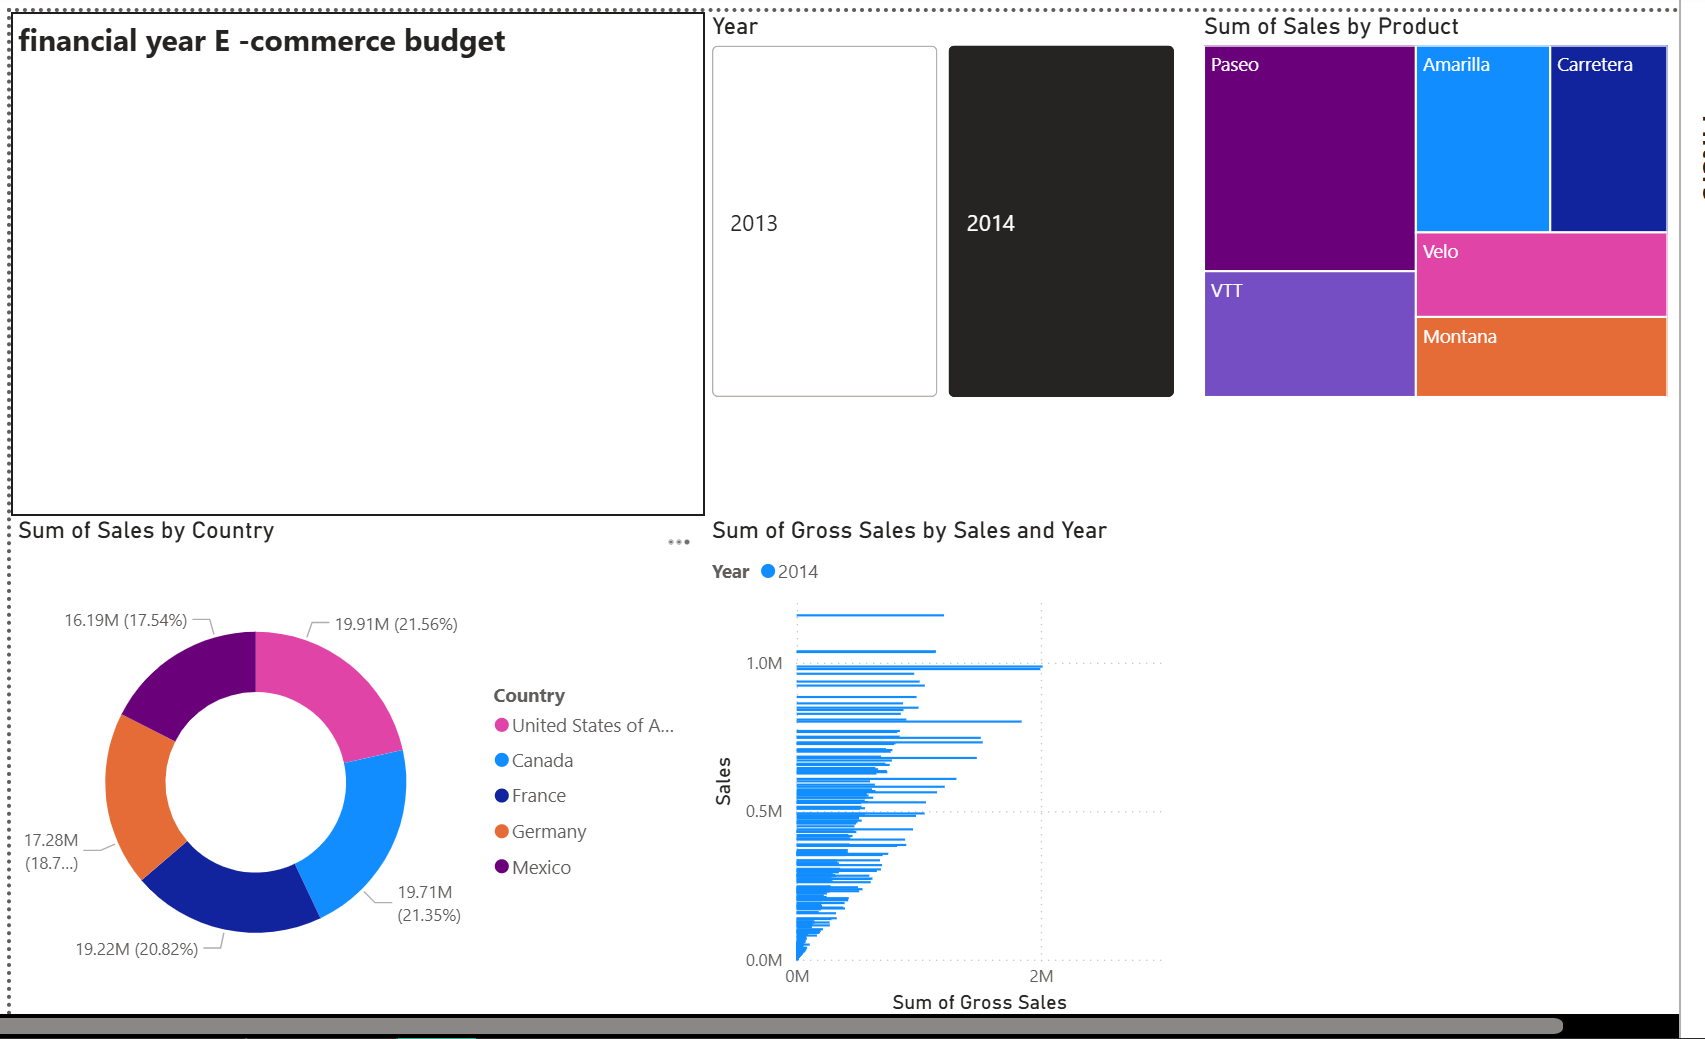

Layout of this report page (visuals, bound fields, positions):
{"tool":"powerbi","page":{"name":"Page 1","canvas":[1280,720],"ordinal":0},"visuals":[{"type":"donutChart","fields":{"Category":["financials.Country"],"Y":["Sum(financials.Sales)"]},"box":[0,360,495.7,361.4],"z":0},{"type":"advancedSlicerVisual","fields":{"Values":["financials.Year"]},"box":[495.7,0,341.4,280],"z":2},{"type":"textbox","box":[0,0,495,360],"z":4},{"type":"treemap","fields":{"Group":["financials.Product"],"Values":["Sum(financials.Sales)"]},"box":[847,0,341,280],"z":5},{"type":"clusteredBarChart","fields":{"Series":["financials.Year"],"Y":["Sum(financials.Gross Sales)"],"Category":["financials.Sales"]},"box":[496,360,341,360],"z":6}]}

Visuals, with their boxes in screenshot pixels (x1, y1, x2, y2):
donutChart - financials.Country x Sum(financials.Sales): <region>27, 521, 702, 1014</region>
advancedSlicerVisual - financials.Year: <region>702, 31, 1167, 412</region>
textbox: <region>27, 31, 701, 521</region>
treemap - financials.Product x Sum(financials.Sales): <region>1180, 31, 1645, 412</region>
clusteredBarChart - financials.Year x Sum(financials.Gross Sales): <region>702, 521, 1167, 1012</region>
